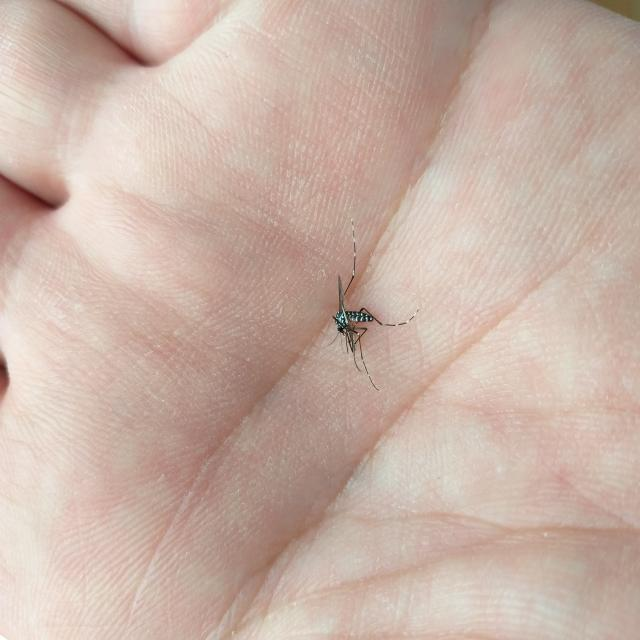albopictus: (317, 228, 420, 390)
